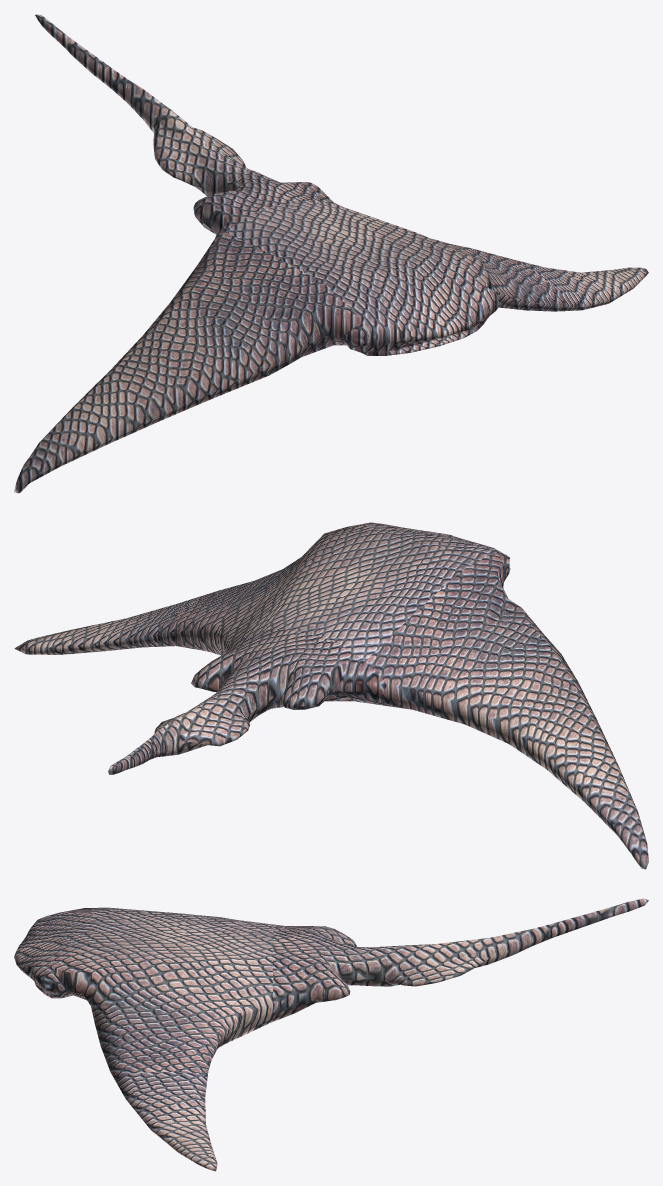
The model's file is ray.obj.
3 views of the same model, one above another, from view 1: azimuth 30°, elevation 25°; view 2: azimuth 150°, elevation 25°; view 3: azimuth 270°, elevation 25° (orthographic). The views are drawn at different scales.
Visible parts, largest first — view 1: ray; view 2: ray; view 3: ray.
Part boxes in pixels (bbox=[...]): ray: bbox=[14, 14, 648, 493]; ray: bbox=[14, 522, 648, 869]; ray: bbox=[14, 898, 648, 1171].
Bounding box in the file's own units: 26.56 × 8.9 × 27.49.
1 material, 1 textured.
